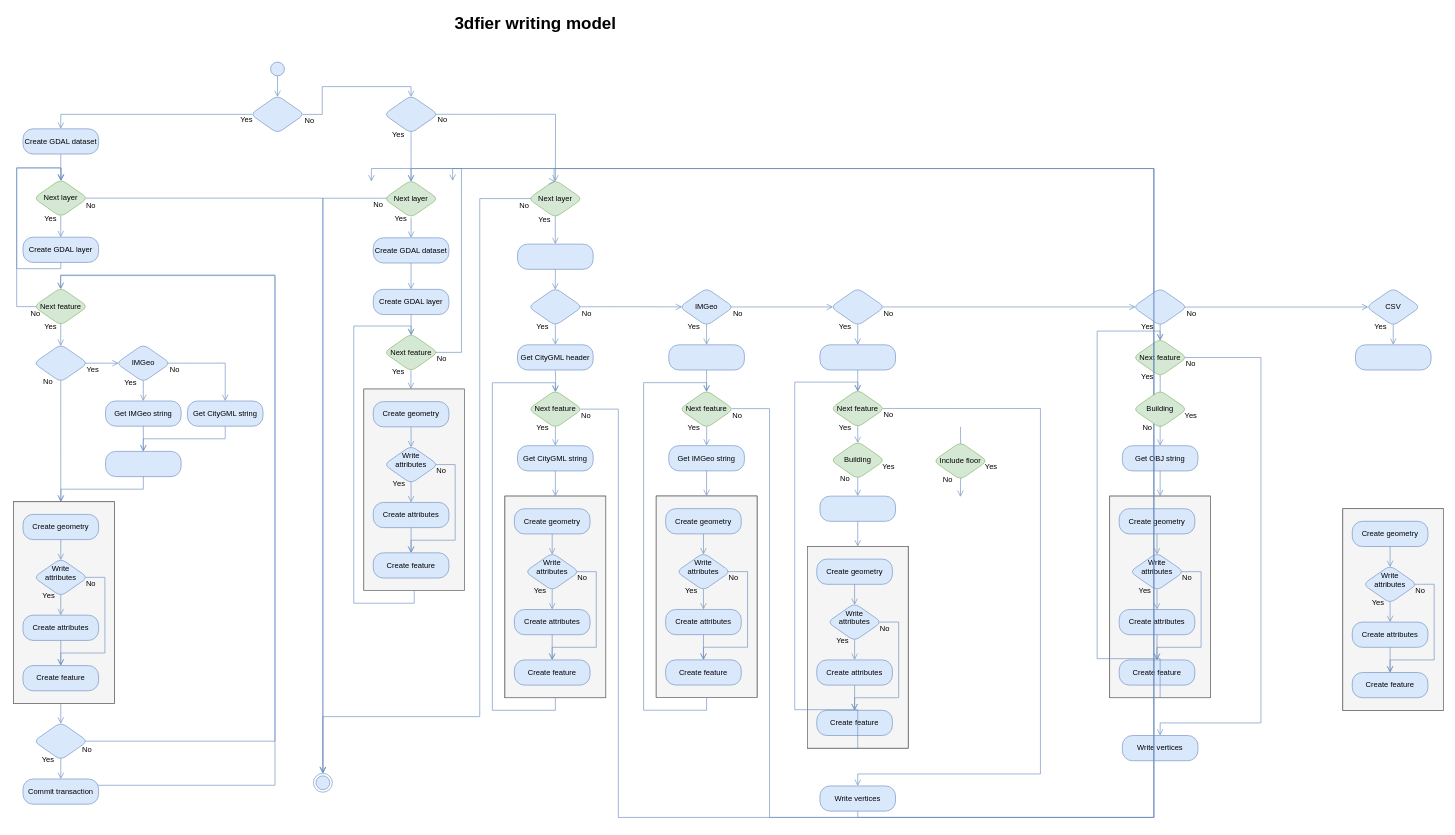
This 1455x835 diagram has some shape labels left out. The shapes that lost their labels are listed below. From the top down, each one's box as (x1, y1, x2, y2) in pixels, then its label:
(250, 95, 305, 133): Database
(383, 95, 438, 133): GDAL format
(517, 243, 593, 269): Open output stream
(528, 287, 582, 326): CityGML
(830, 287, 885, 326): CityJSON
(1132, 287, 1187, 326): OBJ
(33, 344, 88, 382): PDOK
(668, 344, 744, 370): Get IMGeo header
(819, 344, 896, 370): Get CityJSON header
(1355, 344, 1431, 370): Get CSV string
(105, 451, 181, 477): Create XML attribute
(819, 495, 896, 521): Get CityJSON string
(33, 722, 88, 760): 1000th feature
